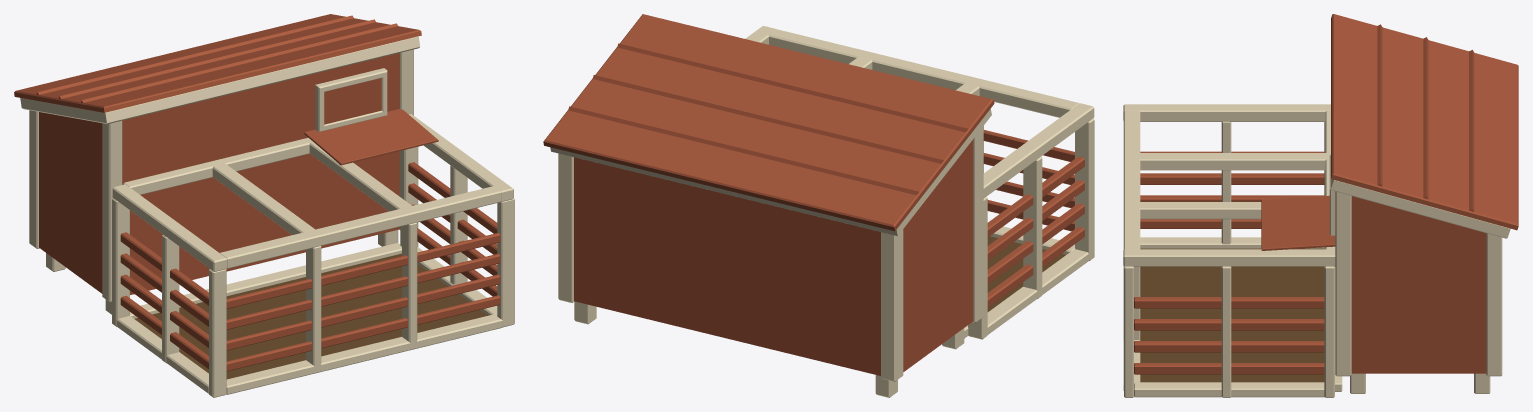
File: Coop_a.gltf
3 views of the same model, side by side, from view 1: azimuth 30°, elevation 25°; view 2: azimuth 150°, elevation 25°; view 3: azimuth 270°, elevation 25° (orthographic). The views are drawn at different scales.
Parts seen in each view (by area): view 1: Box2380, Box2379, Box2382, Line403, Box2383, Box2381; view 2: Box2379, Line403, Box2380, Box2382, Box2383; view 3: Box2380, Line403, Box2379, Box2382, Box2383, Box2381.
Boxes of the visible parts, <box> form: Box2380: <box>20,36,514,397</box>; Box2379: <box>39,53,399,294</box>; Box2382: <box>120,162,500,371</box>; Line403: <box>14,14,421,112</box>; Box2383: <box>134,253,487,379</box>; Box2381: <box>304,68,438,165</box>; Box2379: <box>574,139,973,375</box>; Line403: <box>543,14,994,231</box>; Box2380: <box>550,26,1094,397</box>; Box2382: <box>983,130,1084,307</box>; Box2383: <box>987,236,1065,311</box>; Box2380: <box>1123,104,1510,397</box>; Line403: <box>1331,14,1518,230</box>; Box2379: <box>1351,196,1486,373</box>; Box2382: <box>1134,151,1324,374</box>; Box2383: <box>1140,248,1324,382</box>; Box2381: <box>1261,155,1335,250</box>.
Bounding box in the file's own units: 2.8 × 1.85 × 2.91.
1 material, 1 textured.
